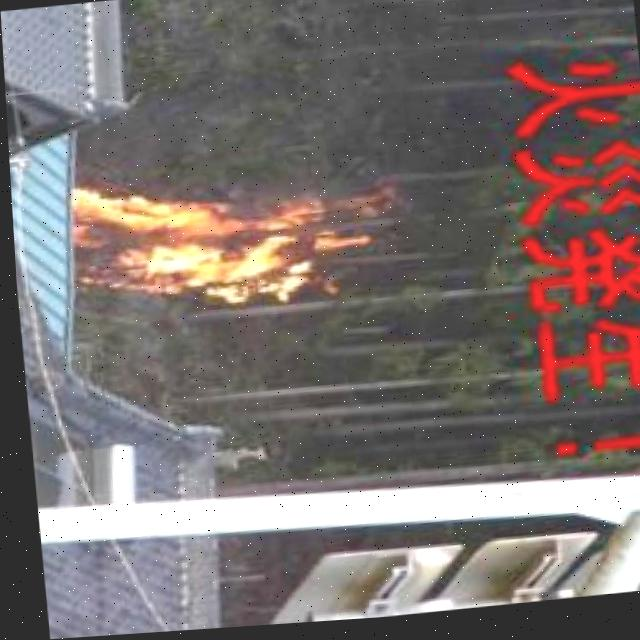Fire: (55, 158, 412, 323)
